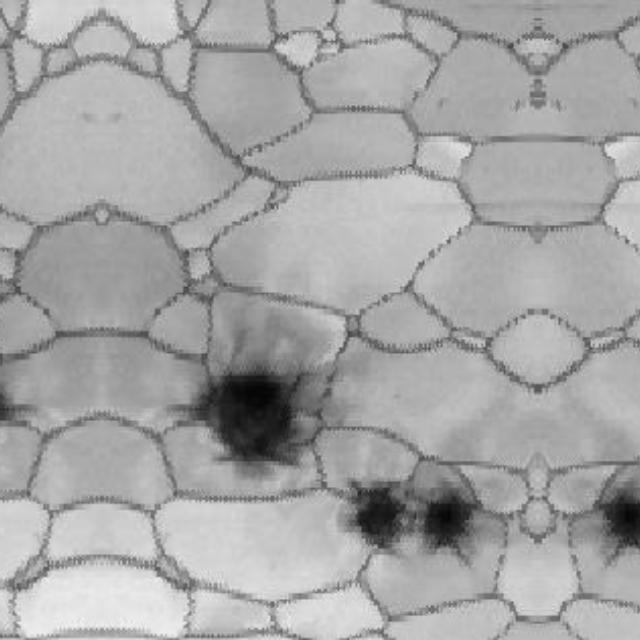good_void: (173, 351, 323, 472), (334, 473, 414, 554), (413, 488, 479, 563), (597, 488, 640, 563)
